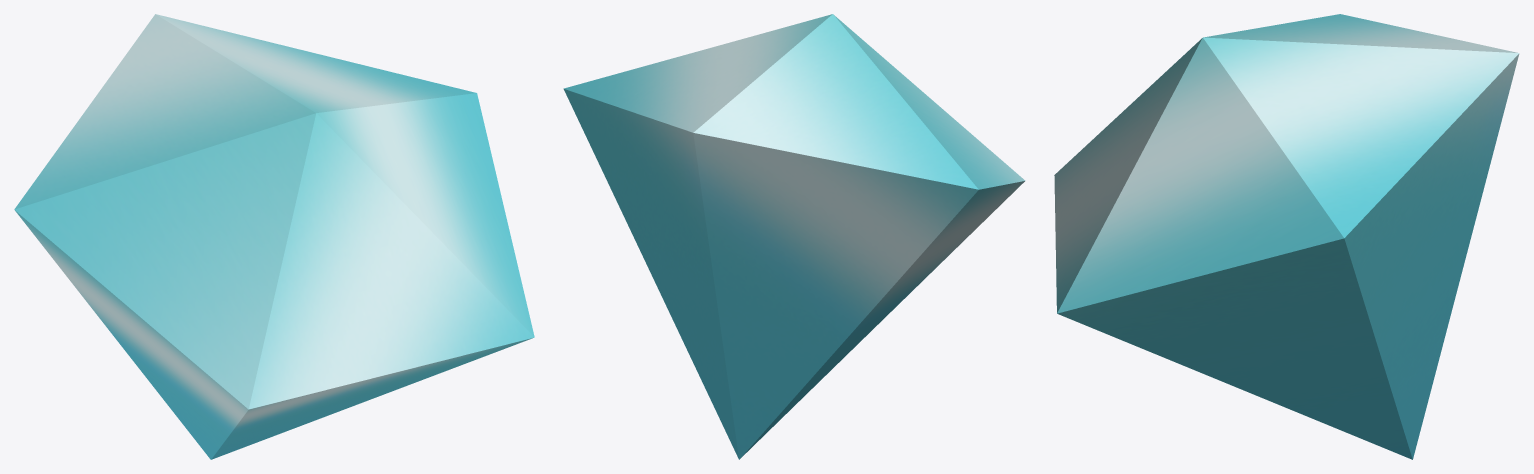
The model's file is Mythill_1.glb.
The picture shows the model from 3 angles, left to right: view 1: azimuth 30°, elevation 25°; view 2: azimuth 150°, elevation 25°; view 3: azimuth 270°, elevation 25°; orthographic projection. The views are drawn at different scales.
Visible parts, largest first — view 1: Mythrill 1; view 2: Mythrill 1; view 3: Mythrill 1.
Boxes of the visible parts, bbox=[...] form: Mythrill 1: bbox=[14, 14, 534, 459]; Mythrill 1: bbox=[563, 14, 1025, 459]; Mythrill 1: bbox=[1054, 14, 1519, 459].
Bounding box in the file's own units: 0.2731 × 0.238 × 0.2374.
Materials: 1 (1 with a texture image).
